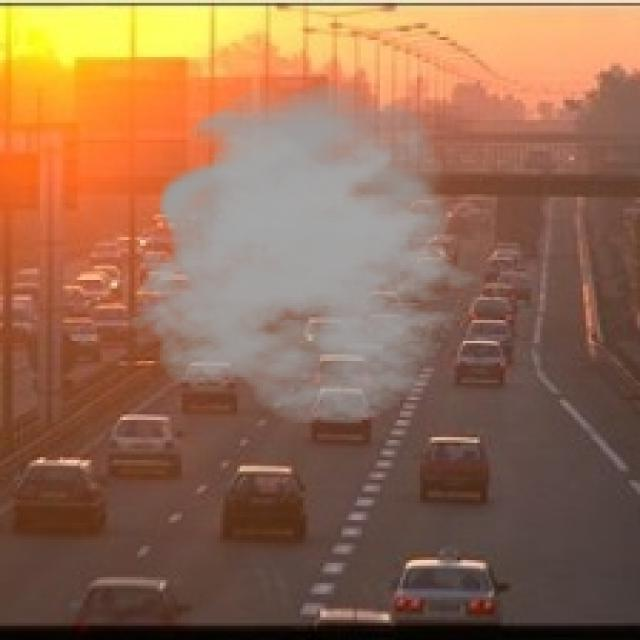Smoke: (126, 83, 497, 426)
